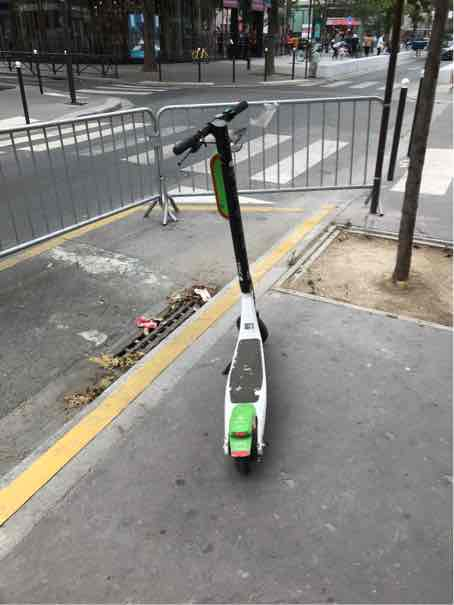scooter: (159, 93, 302, 482)
